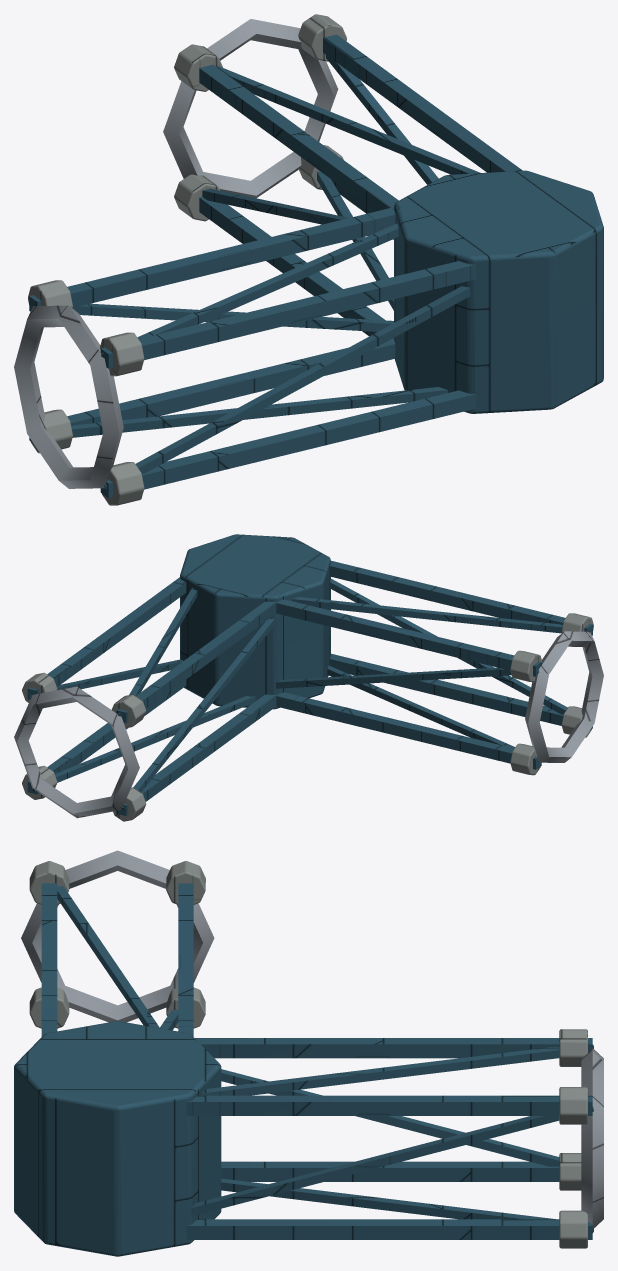
The model's file is truss_corner_90_lod2.glb.
3 renders of one model, top to bottom at view 1: azimuth 30°, elevation 25°; view 2: azimuth 150°, elevation 25°; view 3: azimuth 270°, elevation 25°, orthographic. The views are drawn at different scales.
Visible parts, largest first — view 1: LOD2_Armor, LOD2_BrushedMetal, LOD2_Hull; view 2: LOD2_Armor, LOD2_BrushedMetal, LOD2_Hull; view 3: LOD2_Armor, LOD2_BrushedMetal, LOD2_Hull.
Boxes of the visible parts, x1=… form: LOD2_Armor: x1=29, y1=34, x2=603, y2=498; LOD2_BrushedMetal: x1=14, y1=19, x2=338, y2=488; LOD2_Hull: x1=28, y1=14, x2=346, y2=505; LOD2_Armor: x1=27, y1=534, x2=592, y2=816; LOD2_BrushedMetal: x1=14, y1=631, x2=603, y2=818; LOD2_Hull: x1=22, y1=613, x2=593, y2=821; LOD2_Armor: x1=14, y1=883, x2=593, y2=1256; LOD2_BrushedMetal: x1=21, y1=850, x2=603, y2=1229; LOD2_Hull: x1=29, y1=861, x2=587, y2=1248.
Bounding box in the file's own units: 4.97 × 1.63 × 4.97.
Materials: 3 (3 with a texture image).
